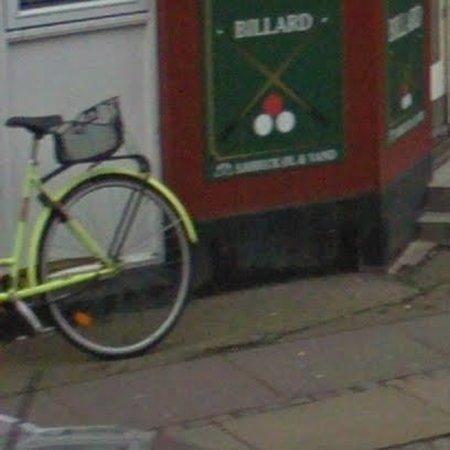bicycles: (0, 97, 198, 357)
